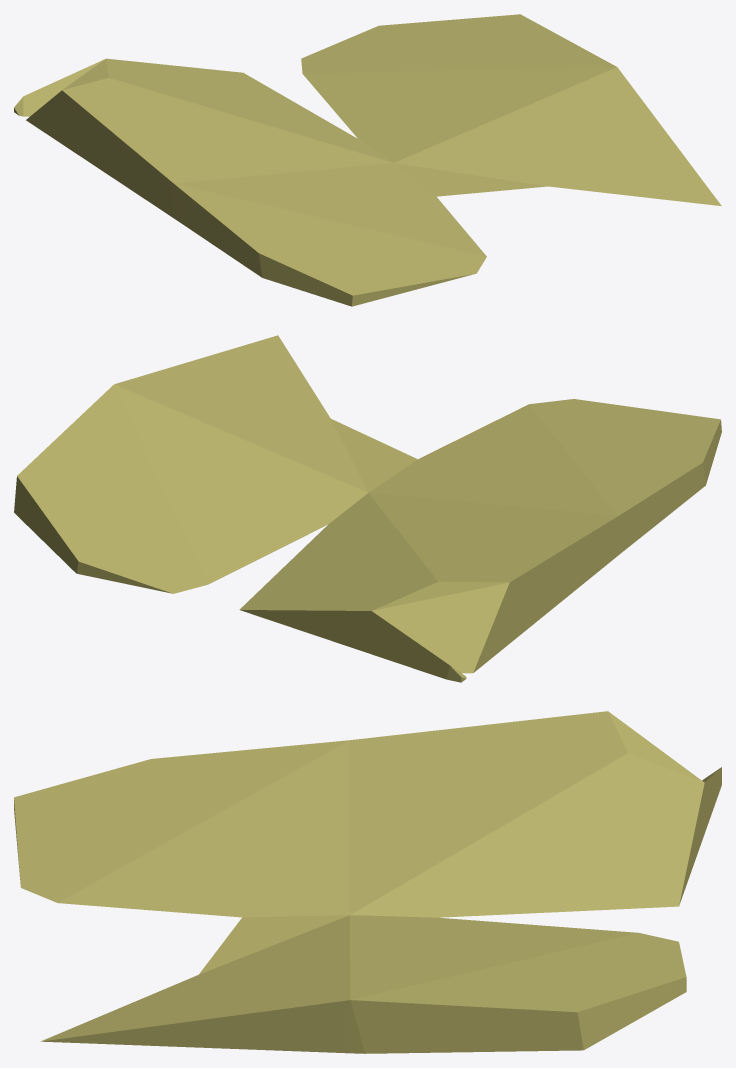
The model's file is Prop_Jungle_Temple_Stepping_Stone_05.FBX.
3 renders of one model, top to bottom at view 1: azimuth 30°, elevation 25°; view 2: azimuth 150°, elevation 25°; view 3: azimuth 270°, elevation 25°, orthographic. The views are drawn at different scales.
Visible parts, largest first — view 1: Prop_Jungle_Temple_Stepping_Stone_05; view 2: Prop_Jungle_Temple_Stepping_Stone_05; view 3: Prop_Jungle_Temple_Stepping_Stone_05.
Boxes of the visible parts, x1,y1,x2,y2 form: Prop_Jungle_Temple_Stepping_Stone_05: (14, 14, 721, 306); Prop_Jungle_Temple_Stepping_Stone_05: (14, 335, 721, 682); Prop_Jungle_Temple_Stepping_Stone_05: (14, 711, 721, 1053).
Bounding box in the file's own units: 832 × 95.38 × 901.
